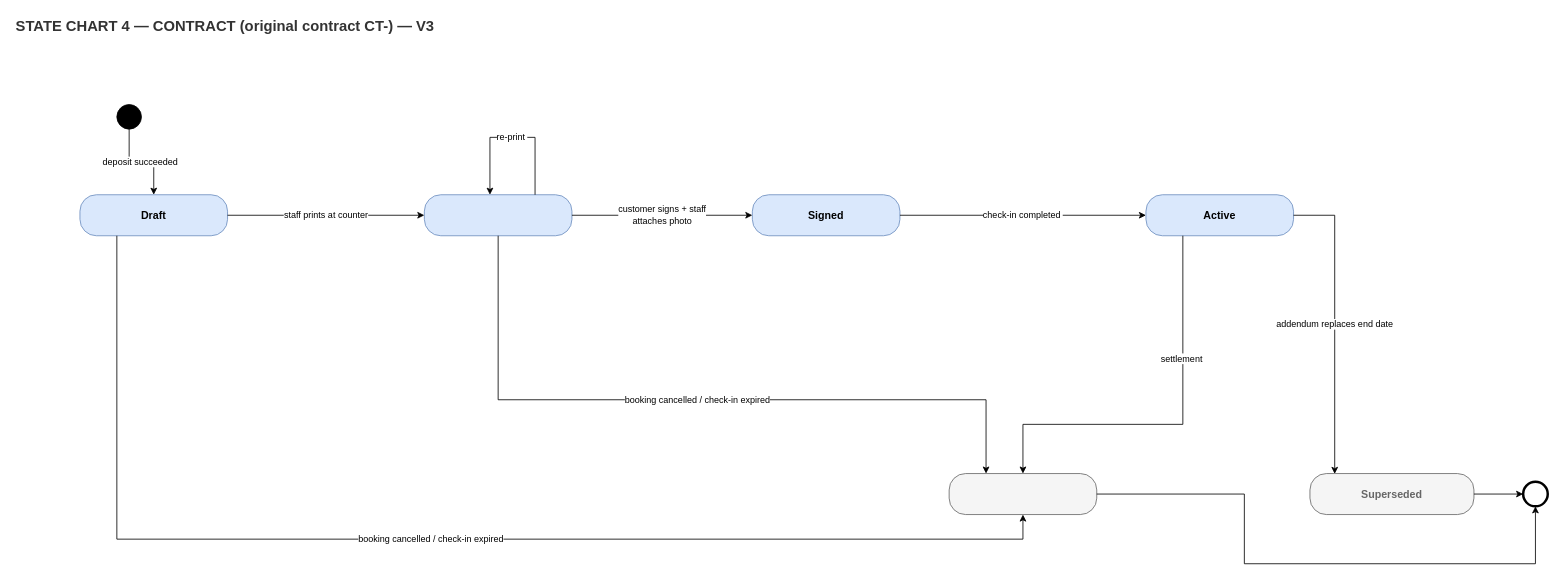
The diagram is 1563 pixels wide and 585 high, and some of its shapes have lost their labels. Each missing label, with the box of its shape:
Closed: (948, 473, 1097, 515)
Printed: (424, 194, 572, 236)
